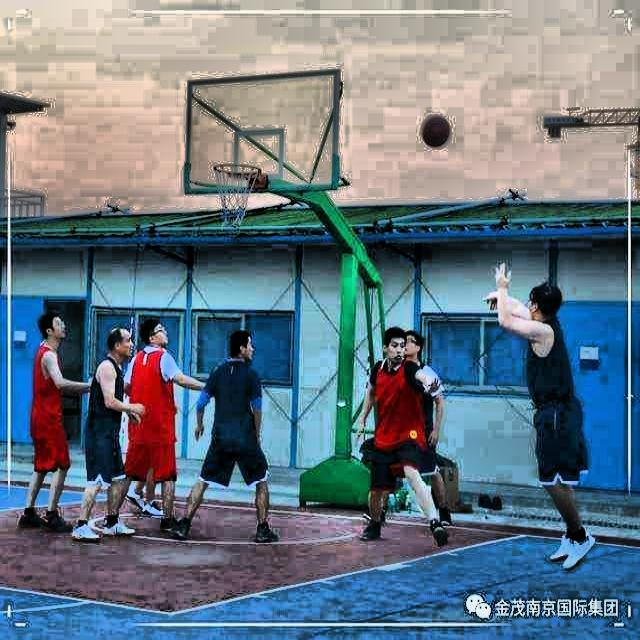rim: (212, 162, 260, 227)
